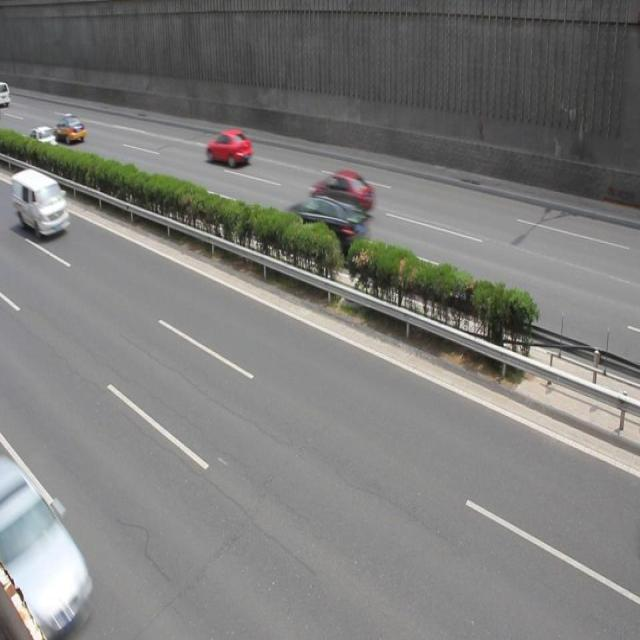car: (279, 192, 369, 264), (310, 172, 374, 216), (205, 128, 253, 168), (53, 111, 85, 143), (28, 126, 56, 153)
truck: (12, 167, 69, 235)
